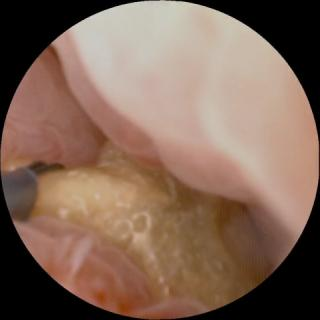stone: (31, 143, 270, 306)
tissue: (1, 5, 318, 261)
